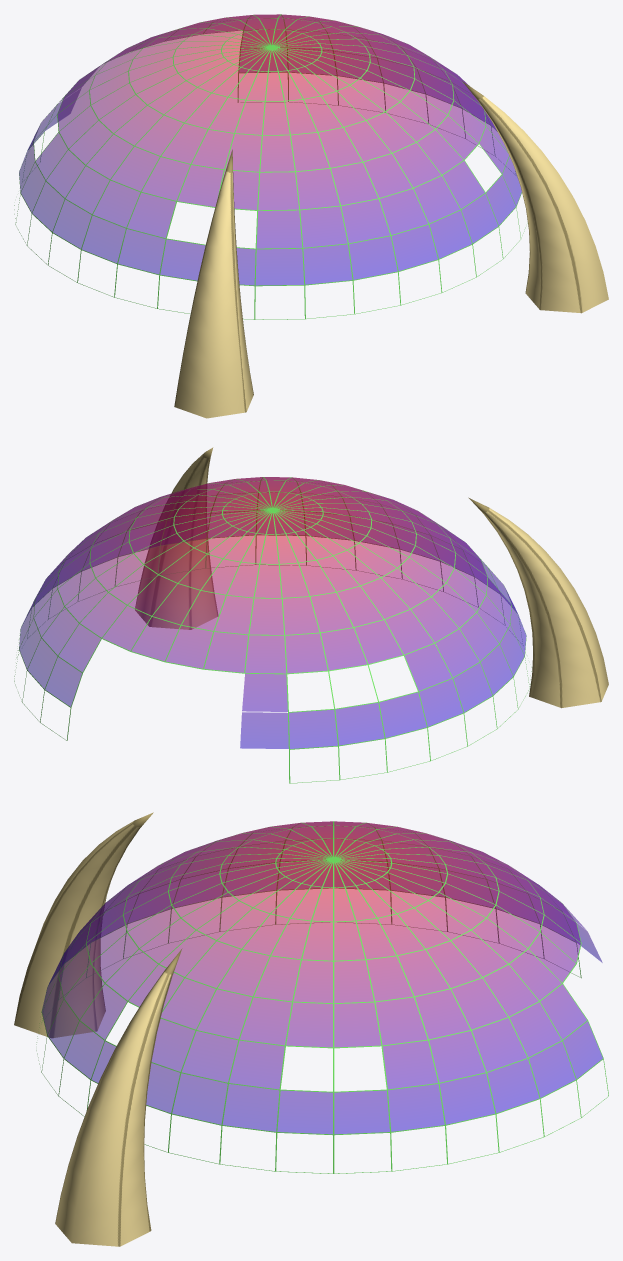
Rendered from Cell Dome.FBX.
The picture shows the model from 3 angles, top to bottom: view 1: azimuth 30°, elevation 25°; view 2: azimuth 150°, elevation 25°; view 3: azimuth 270°, elevation 25°; orthographic projection. The views are drawn at different scales.
Visible parts, largest first — view 1: Windows008, Windows007, Windows006, Dome001, Cone003, Cone001, Windows005; view 2: Windows007, Windows008, Windows006, Dome001, Cone003, Cone001, Windows005; view 3: Windows008, Windows007, Windows006, Dome001, Cone001, Cone003, Windows005.
Part boxes in pixels (x1,y1,x2,y2): Windows008: (19,30,521,285); Windows007: (57,14,485,210); Windows006: (129,14,414,134); Dome001: (14,14,527,319); Cone003: (174,149,253,418); Cone001: (462,81,608,313); Windows005: (222,29,321,71); Windows007: (58,477,487,673); Windows008: (19,492,526,748); Windows006: (129,477,415,597); Dome001: (14,477,531,783); Cone003: (468,497,608,708); Cone001: (135,447,218,629); Windows005: (223,492,322,534); Windows008: (42,839,602,1134); Windows007: (86,821,580,1047); Windows006: (169,821,498,960); Dome001: (36,821,608,1173); Cone001: (55,948,182,1246); Cone003: (14,812,153,1038); Windows005: (276,838,390,887).
Size of the model in its own units: 3162 by 3113 by 1487.
Materials: 3 (3 with a texture image).
